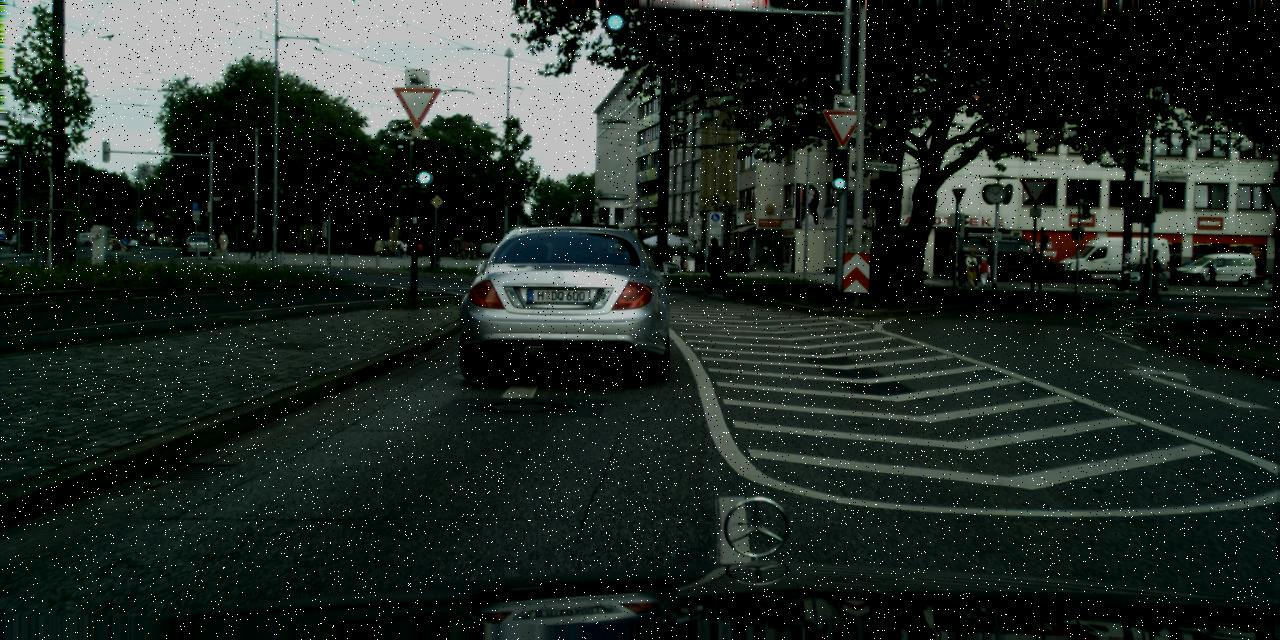ped: (699, 237, 722, 293), (1141, 248, 1161, 299), (712, 245, 731, 290), (953, 249, 968, 287), (963, 251, 978, 287), (966, 253, 979, 286), (1167, 254, 1179, 283), (1138, 252, 1150, 281), (977, 257, 989, 286), (1207, 257, 1218, 285), (249, 228, 260, 255), (728, 246, 739, 272), (218, 230, 228, 256), (701, 246, 711, 270), (374, 237, 383, 260), (395, 237, 404, 260), (400, 241, 408, 258), (6, 230, 13, 248), (454, 249, 466, 259), (416, 241, 422, 258), (382, 238, 388, 253), (147, 234, 152, 247)
